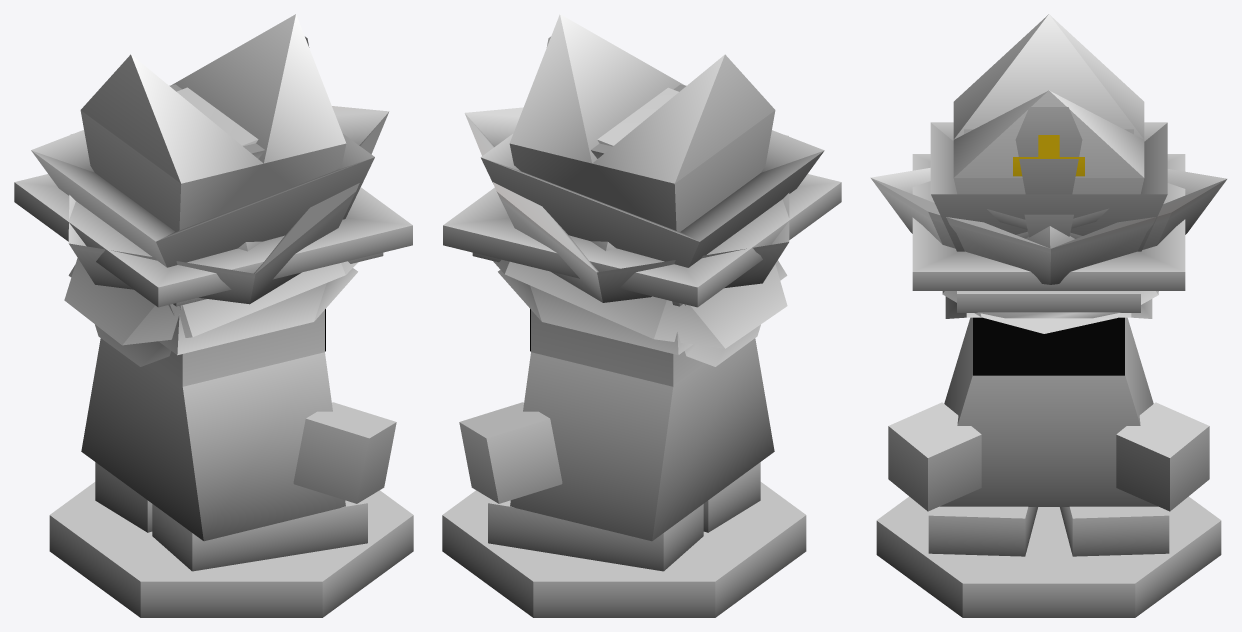
Rendered from Troop.fbx.
3 renders of one model, left to right at view 1: azimuth 30°, elevation 25°; view 2: azimuth 150°, elevation 25°; view 3: azimuth 270°, elevation 25°, orthographic. The views are drawn at different scales.
Parts seen in each view (by area): view 1: Base, Bishops Hat, Captains Hat, Farmers Hat, Pith Helmet, Admiral Hat, Hand R, Head, Stahlhelm, Picklehaube; view 2: Base, Bishops Hat, Captains Hat, Farmers Hat, Pith Helmet, Admiral Hat, Hand L, Head, Stahlhelm, Picklehaube; view 3: Base, Bishops Hat, Admiral Hat, Captains Hat, Farmers Hat, Colonial Hat, Face, Hand L, Hand R, Pith Helmet, Union Cap, Stahlhelm.
Part boxes in pixels (x1,y1,x2,y2): Base: [49, 338, 413, 617]; Bishops Hat: [80, 14, 346, 231]; Captains Hat: [31, 87, 374, 267]; Farmers Hat: [14, 174, 412, 307]; Pith Helmet: [64, 258, 357, 345]; Admiral Hat: [68, 106, 389, 304]; Hand R: [293, 402, 396, 503]; Head: [151, 310, 324, 386]; Stahlhelm: [68, 265, 357, 355]; Picklehaube: [95, 324, 170, 366]; Base: [442, 338, 806, 617]; Bishops Hat: [509, 14, 775, 231]; Captains Hat: [480, 87, 824, 267]; Farmers Hat: [443, 174, 841, 307]; Pith Helmet: [493, 259, 787, 348]; Admiral Hat: [464, 107, 789, 302]; Hand L: [459, 402, 562, 503]; Head: [531, 310, 704, 386]; Stahlhelm: [498, 260, 787, 355]; Picklehaube: [685, 324, 760, 366]; Base: [876, 317, 1221, 617]; Bishops Hat: [953, 14, 1144, 194]; Admiral Hat: [870, 168, 1227, 284]; Captains Hat: [930, 122, 1167, 251]; Farmers Hat: [912, 154, 1185, 290]; Colonial Hat: [957, 107, 1140, 312]; Face: [973, 317, 1124, 375]; Hand L: [1116, 402, 1209, 511]; Hand R: [888, 402, 981, 511]; Pith Helmet: [942, 291, 1158, 333]; Union Cap: [977, 312, 1120, 318]; Stahlhelm: [945, 296, 1152, 318].
Bounding box in the file's own units: 297 × 459 × 301.
